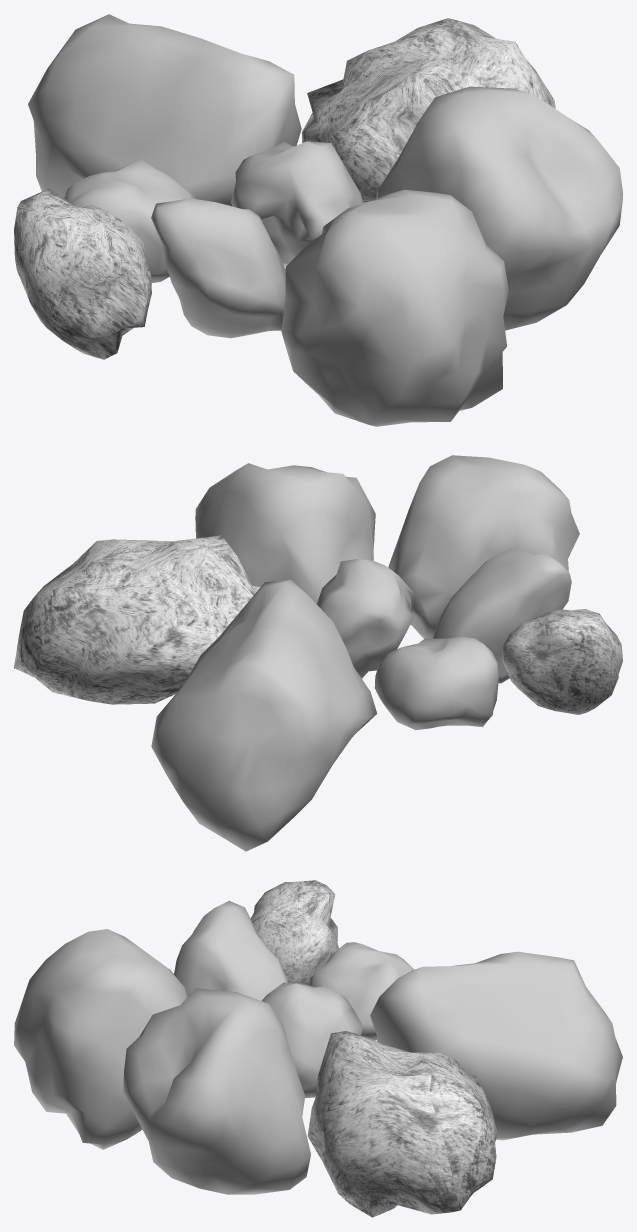
Rendered from rock.FBX.
3 views of the same model, one above another, from view 1: azimuth 30°, elevation 25°; view 2: azimuth 150°, elevation 25°; view 3: azimuth 270°, elevation 25° (orthographic). The views are drawn at different scales.
Visible parts, largest first — view 1: GeoSphere005, GeoSphere002, GeoSphere003, GeoSphere007, GeoSphere008, GeoSphere004, GeoSphere006, GeoSphere001; view 2: GeoSphere002, GeoSphere007, GeoSphere005, GeoSphere003, GeoSphere008, GeoSphere001, GeoSphere004, GeoSphere006; view 3: GeoSphere002, GeoSphere003, GeoSphere007, GeoSphere005, GeoSphere004, GeoSphere008, GeoSphere006, GeoSphere001.
Boxes of the visible parts, <box> form: GeoSphere005: <box>281,189,508,426</box>; GeoSphere002: <box>28,14,301,206</box>; GeoSphere003: <box>376,86,622,330</box>; GeoSphere007: <box>301,18,555,202</box>; GeoSphere008: <box>14,188,151,359</box>; GeoSphere004: <box>151,198,285,338</box>; GeoSphere006: <box>231,141,363,266</box>; GeoSphere001: <box>64,159,195,282</box>; GeoSphere002: <box>151,579,377,851</box>; GeoSphere007: <box>14,535,260,704</box>; GeoSphere005: <box>388,455,579,638</box>; GeoSphere003: <box>195,463,375,603</box>; GeoSphere008: <box>502,609,622,714</box>; GeoSphere001: <box>374,636,498,729</box>; GeoSphere004: <box>432,548,571,683</box>; GeoSphere006: <box>316,559,414,678</box>; GeoSphere002: <box>370,951,622,1140</box>; GeoSphere003: <box>123,988,310,1194</box>; GeoSphere007: <box>307,1031,497,1217</box>; GeoSphere005: <box>14,929,187,1149</box>; GeoSphere004: <box>173,901,287,1000</box>; GeoSphere008: <box>250,880,338,984</box>; GeoSphere006: <box>262,982,363,1097</box>; GeoSphere001: <box>309,942,414,1040</box>.
Size of the model in its own units: 101 by 37.53 by 108.
